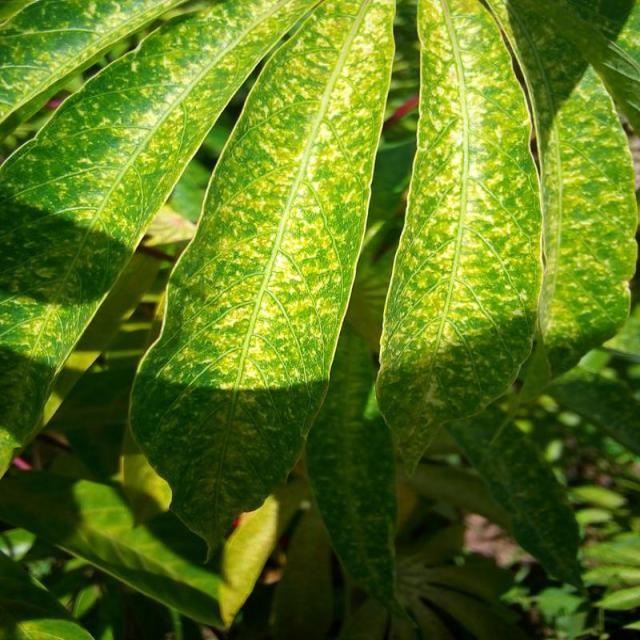cassava leaf: (2, 0, 640, 630), (1, 0, 320, 480), (127, 0, 398, 562), (374, 0, 546, 478)
